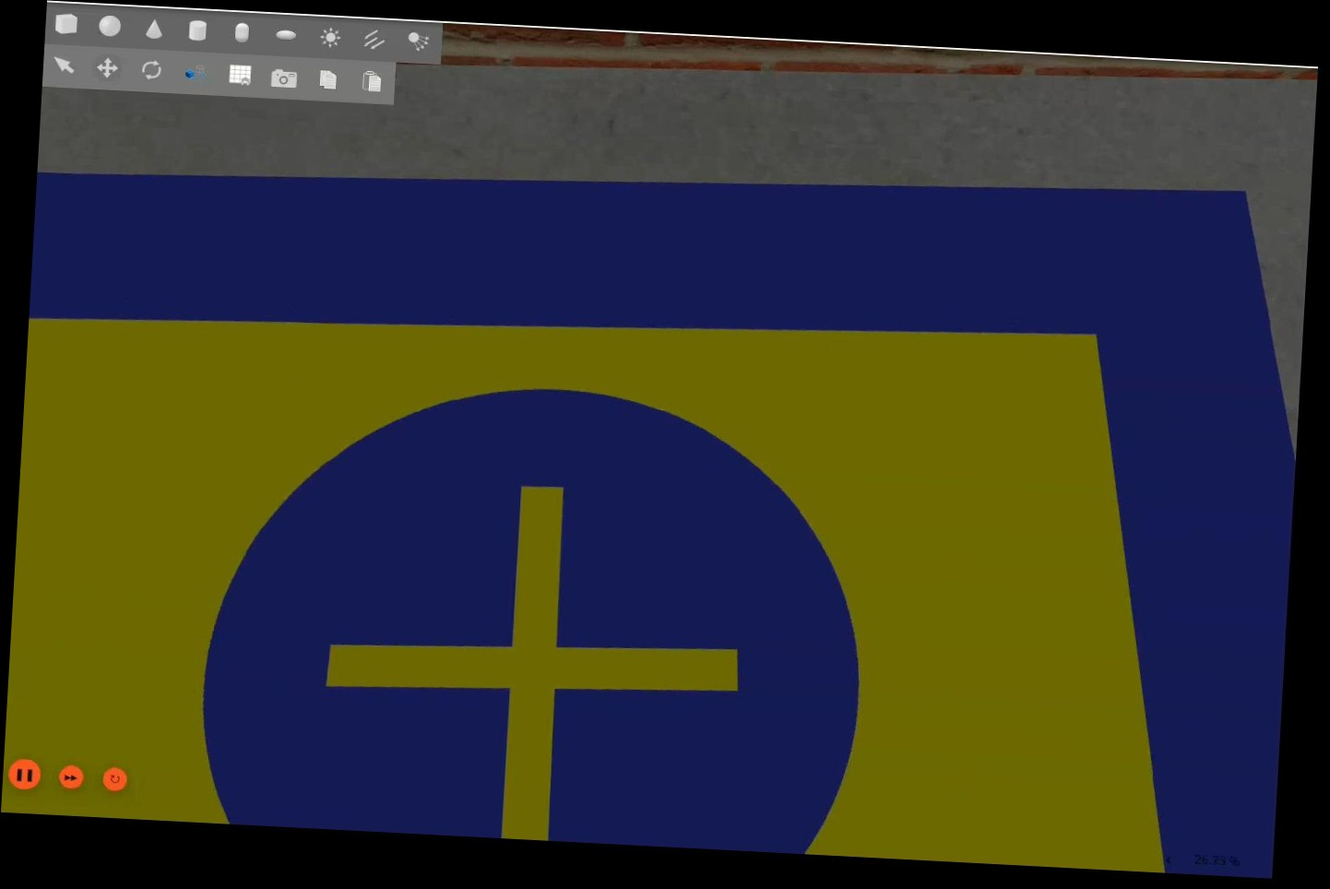large_base: (1, 120, 1312, 881)
